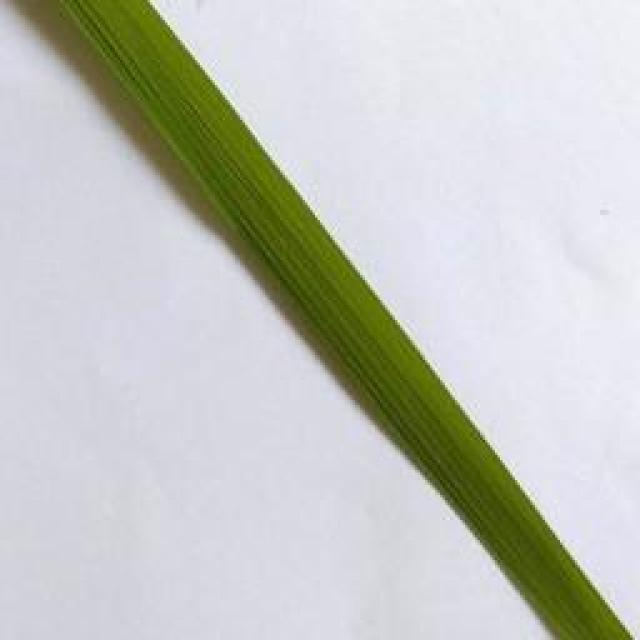Healthy-Plant: (64, 0, 636, 640)
